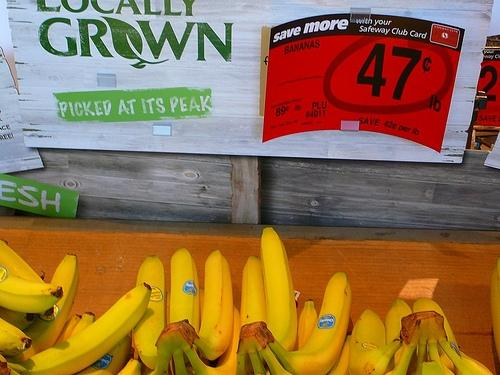banana: (8, 282, 152, 375), (268, 271, 352, 375), (4, 252, 80, 363), (248, 299, 318, 375), (260, 226, 297, 352), (194, 250, 233, 360), (0, 239, 54, 316), (183, 304, 240, 375), (432, 311, 494, 375), (133, 255, 167, 369), (348, 309, 404, 373), (0, 272, 63, 313), (170, 248, 200, 334), (76, 329, 132, 375), (413, 298, 459, 350), (384, 319, 423, 374), (240, 255, 266, 330), (426, 310, 456, 375), (1, 318, 32, 356), (51, 314, 82, 347), (171, 335, 195, 375), (0, 306, 36, 331), (68, 312, 96, 338), (415, 359, 444, 375), (117, 358, 141, 375)
